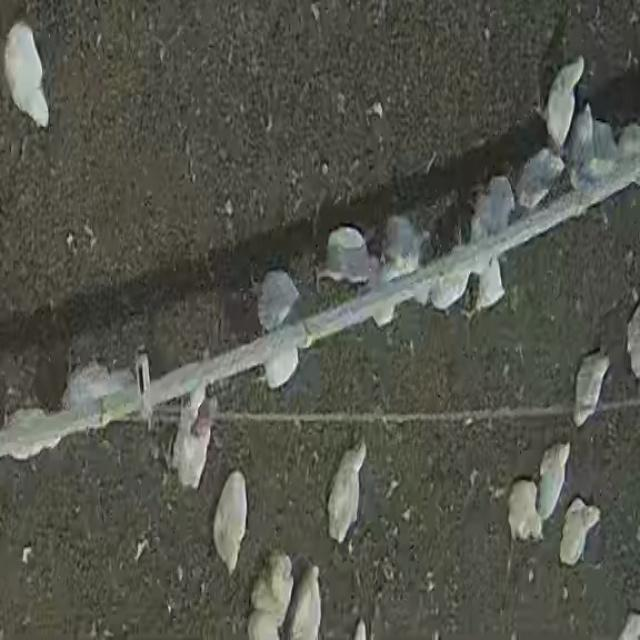chicken: (4, 19, 54, 132), (171, 384, 217, 490), (544, 46, 587, 143), (327, 442, 367, 546), (212, 471, 249, 577), (318, 224, 377, 289), (248, 555, 292, 626), (67, 361, 133, 408), (571, 351, 610, 428), (558, 499, 602, 566), (516, 148, 565, 207), (471, 178, 514, 244), (381, 213, 423, 279), (565, 107, 598, 187), (253, 269, 300, 323), (538, 443, 570, 521), (510, 478, 546, 544), (473, 258, 508, 314)
